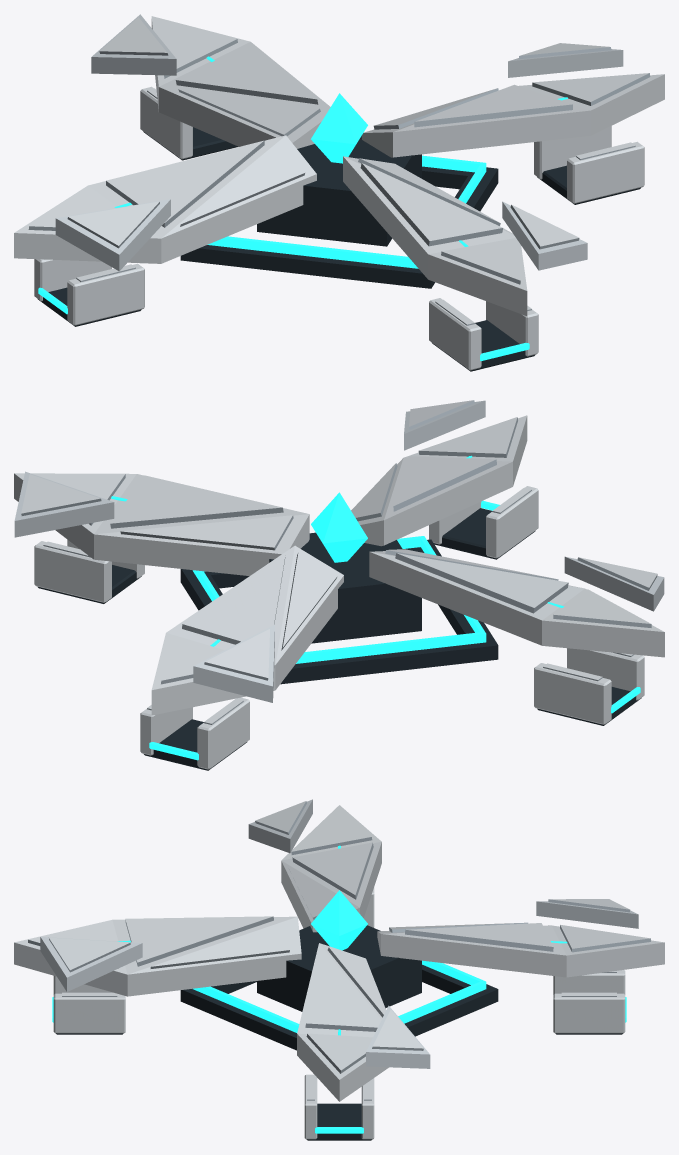
File: 02_sternenbasis.glb
3 renders of one model, top to bottom at view 1: azimuth 30°, elevation 25°; view 2: azimuth 150°, elevation 25°; view 3: azimuth 270°, elevation 25°, orthographic. The views are drawn at different scales.
Visible parts, largest first — view 1: Hull, service_rotor; view 2: Hull, service_rotor; view 3: Hull, service_rotor.
Boxes of the visible parts, x1=… form: Hull: x1=14, y1=14, x2=664, y2=371; service_rotor: x1=180, y1=155, x2=498, y2=288; Hull: x1=14, y1=400, x2=664, y2=770; service_rotor: x1=180, y1=536, x2=498, y2=684; Hull: x1=14, y1=799, x2=664, y2=1140; service_rotor: x1=180, y1=960, x2=498, y2=1050.
Bounding box in the file's own units: 18 × 4.01 × 18.
